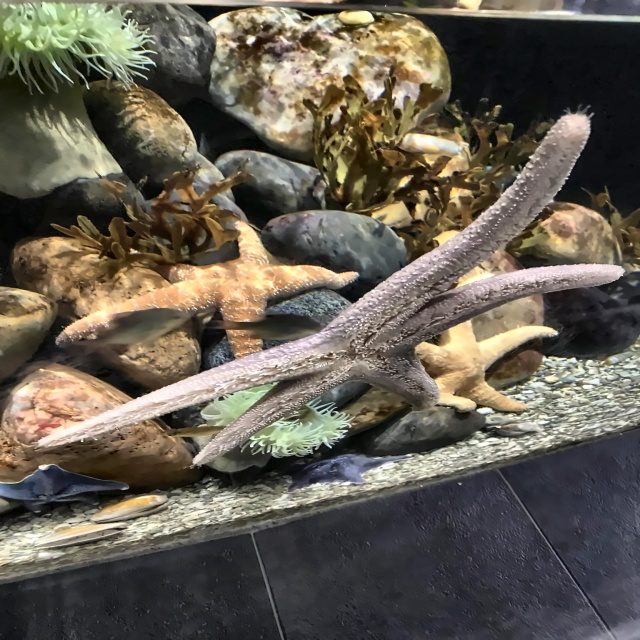starfish: (36, 112, 624, 467), (54, 221, 361, 361), (415, 273, 560, 414), (1, 463, 130, 514), (268, 453, 415, 492)
